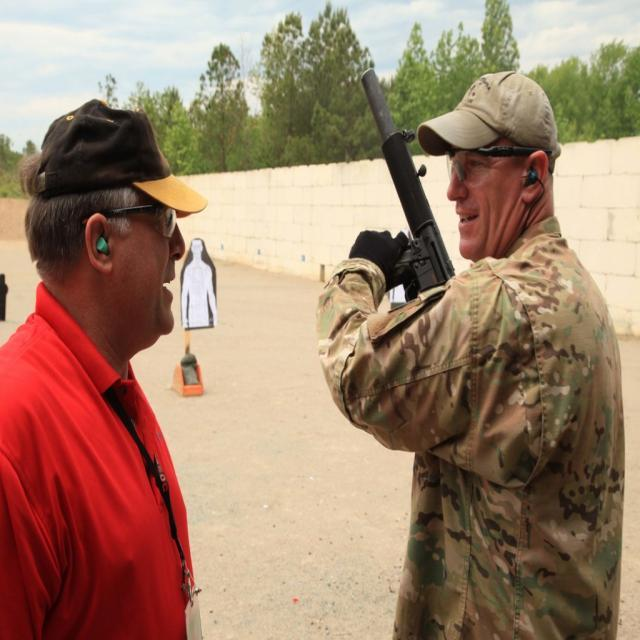weapon: (372, 66, 458, 309)
